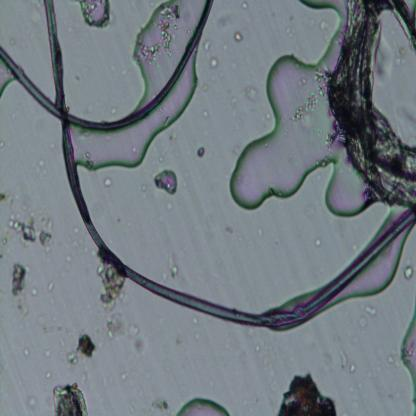Air bubble: (228, 52, 369, 220), (73, 62, 204, 166), (125, 1, 187, 91), (347, 242, 414, 301), (397, 308, 416, 405), (172, 393, 232, 416), (79, 0, 110, 30), (154, 166, 178, 196), (0, 66, 15, 100), (196, 145, 205, 159)
Background material: (1, 201, 57, 254), (279, 371, 338, 415), (298, 1, 346, 51), (286, 73, 329, 122), (5, 258, 40, 318), (95, 264, 125, 312), (52, 381, 90, 414), (67, 335, 94, 364), (108, 315, 136, 341), (262, 356, 278, 392), (164, 249, 182, 281), (71, 227, 91, 253), (30, 0, 44, 26), (31, 160, 50, 179), (132, 332, 150, 352), (0, 186, 16, 206), (363, 302, 380, 320), (384, 349, 398, 369), (280, 23, 297, 38), (245, 86, 259, 104), (151, 396, 171, 408), (65, 249, 76, 270), (163, 129, 181, 141), (337, 347, 347, 368), (403, 264, 414, 283), (180, 164, 189, 187), (170, 333, 184, 347), (24, 393, 38, 407), (124, 402, 140, 414), (356, 314, 368, 330), (101, 175, 114, 189), (116, 368, 130, 381), (234, 30, 245, 45), (58, 342, 66, 362), (40, 369, 53, 381), (262, 108, 273, 122), (22, 345, 33, 358), (208, 56, 218, 70), (5, 35, 15, 48), (188, 315, 198, 328), (223, 222, 232, 236), (45, 280, 54, 294), (204, 40, 212, 54), (324, 360, 332, 374), (239, 1, 249, 12), (313, 237, 323, 248), (200, 85, 212, 94), (349, 361, 357, 374), (156, 214, 166, 224), (252, 343, 262, 353), (206, 377, 215, 388), (141, 182, 148, 195), (231, 94, 238, 107), (192, 333, 202, 342), (108, 107, 118, 116), (166, 202, 174, 213), (30, 285, 38, 296), (44, 350, 52, 359), (337, 409, 347, 416), (203, 107, 209, 118), (158, 156, 166, 164), (258, 229, 264, 239), (0, 141, 6, 150)
Cellulose filter fibre: (336, 0, 416, 213)
Microfibre: (43, 0, 416, 329), (0, 0, 215, 132)
